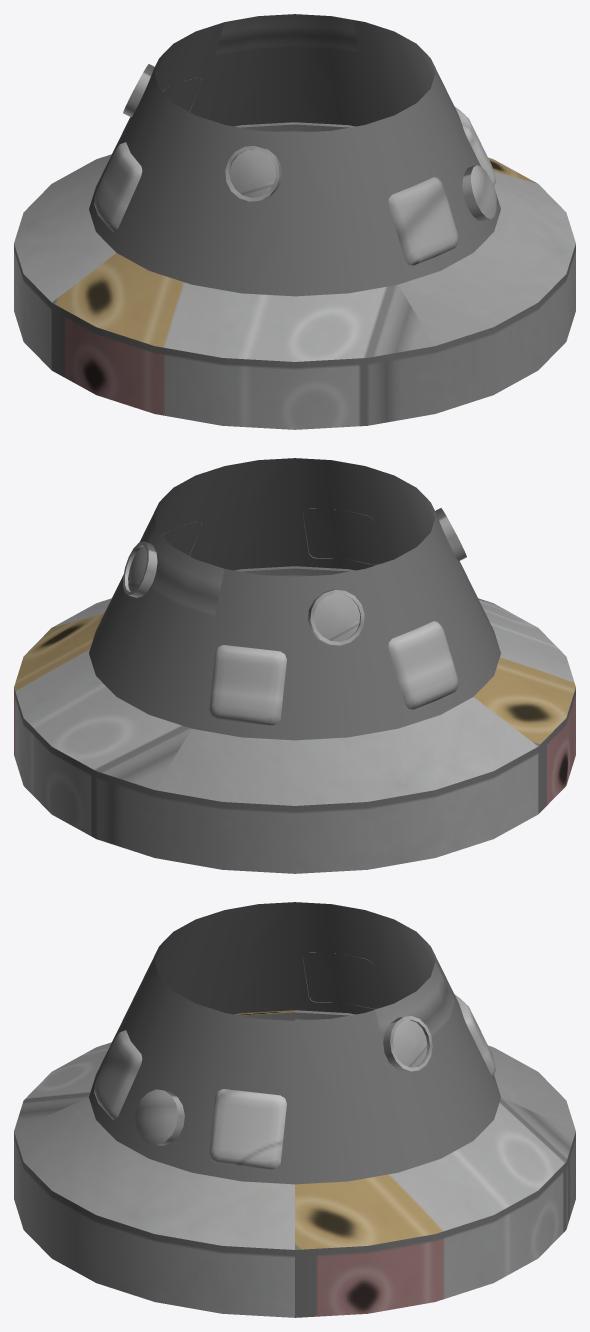
Rendered from eridani_node_adapter_s1p5_s0p5_1.obj.
3 views of the same model, one above another, from view 1: azimuth 30°, elevation 25°; view 2: azimuth 150°, elevation 25°; view 3: azimuth 270°, elevation 25° (orthographic).
Parts seen in each view (by area): view 1: mesh1, windows1; view 2: mesh1, windows1; view 3: mesh1, windows1.
Part boxes in pixels (<box>): mesh1: <box>14,14,575,429</box>; windows1: <box>229,149,275,197</box>; mesh1: <box>14,458,575,873</box>; windows1: <box>128,546,360,641</box>; mesh1: <box>14,902,575,1317</box>; windows1: <box>393,1020,427,1067</box>.
Bounding box in the file's own units: 1.88 × 0.875 × 1.88.
2 materials, 2 textured.
